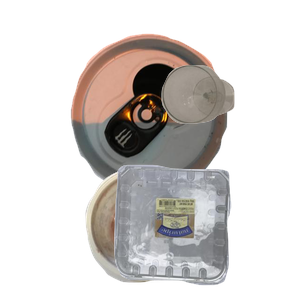glass: (159, 63, 300, 179)
metal: (68, 31, 288, 211)
plastic: (112, 162, 300, 300)
trash: (83, 163, 276, 300)
